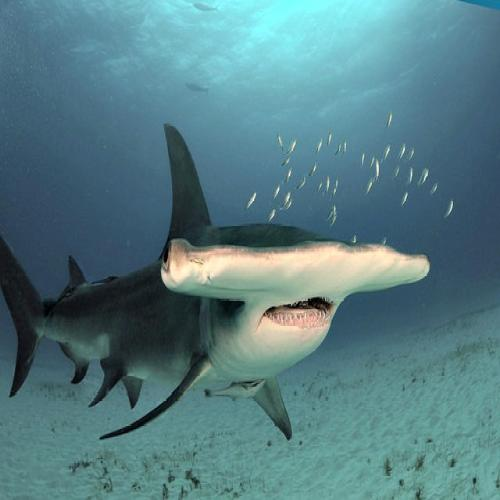shark-endangered: (0, 120, 431, 444)
